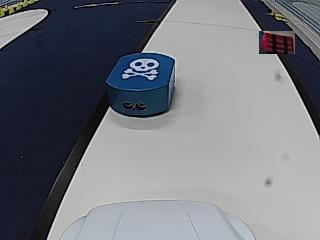danger: (122, 58, 157, 80)
